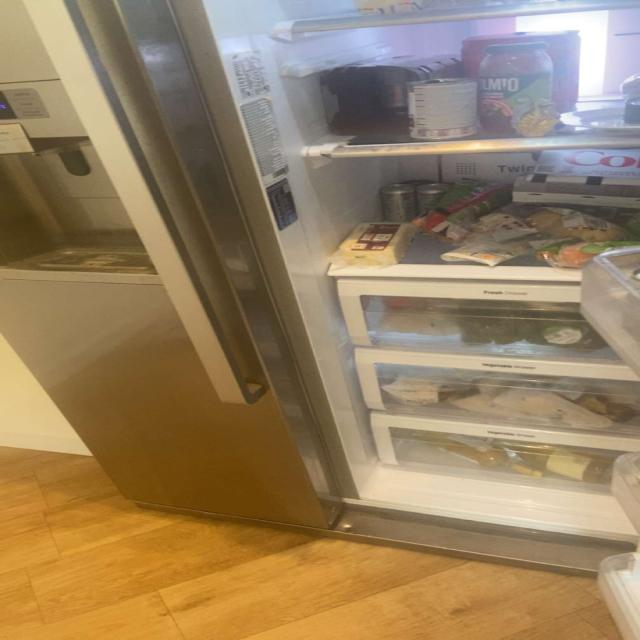Brocoli: (528, 310, 610, 352)
Queso: (490, 384, 600, 426), (336, 222, 414, 268), (389, 373, 476, 410)
Zanahoria: (552, 242, 638, 266)
